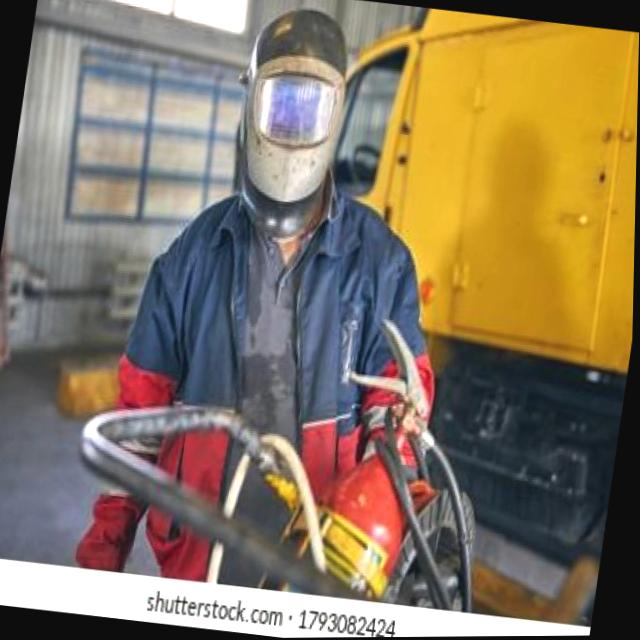FireExtinguisher: (245, 300, 467, 610)
